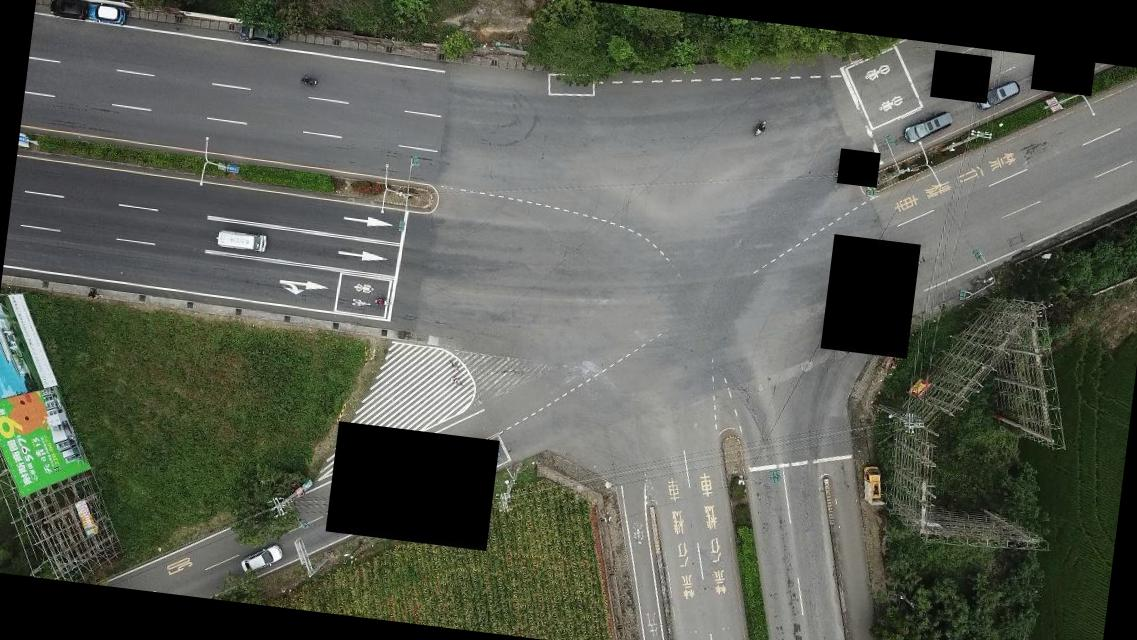vehicle: (902, 108, 954, 148), (974, 77, 1021, 116), (239, 540, 286, 579), (214, 226, 268, 254), (856, 464, 886, 501), (47, 0, 92, 24), (86, 2, 129, 27), (238, 23, 282, 47)
